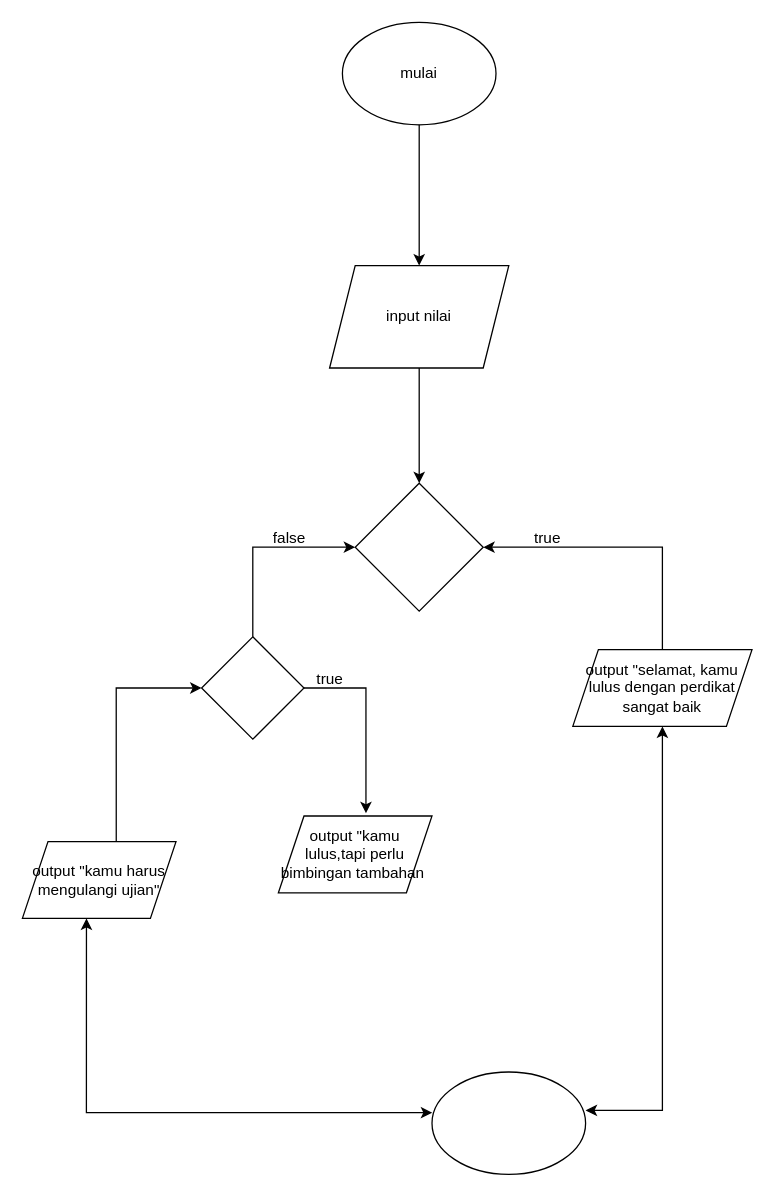
Some shapes in this 774 by 1197 pixel diagram are drawn without their labels. Each missing label, with the centre of its shape:
elif nilai == "60": (x=252, y=687)
if nilai == "80": (x=418, y=546)
selesai: (x=508, y=1122)
